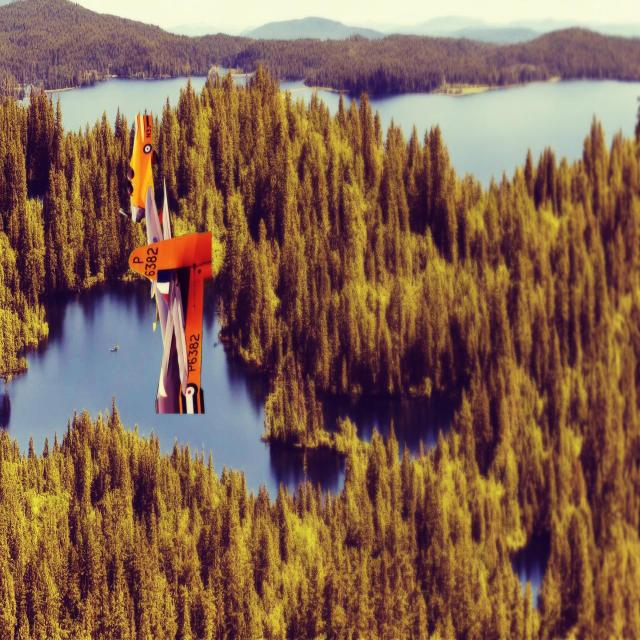airplane: (119, 112, 212, 414)
